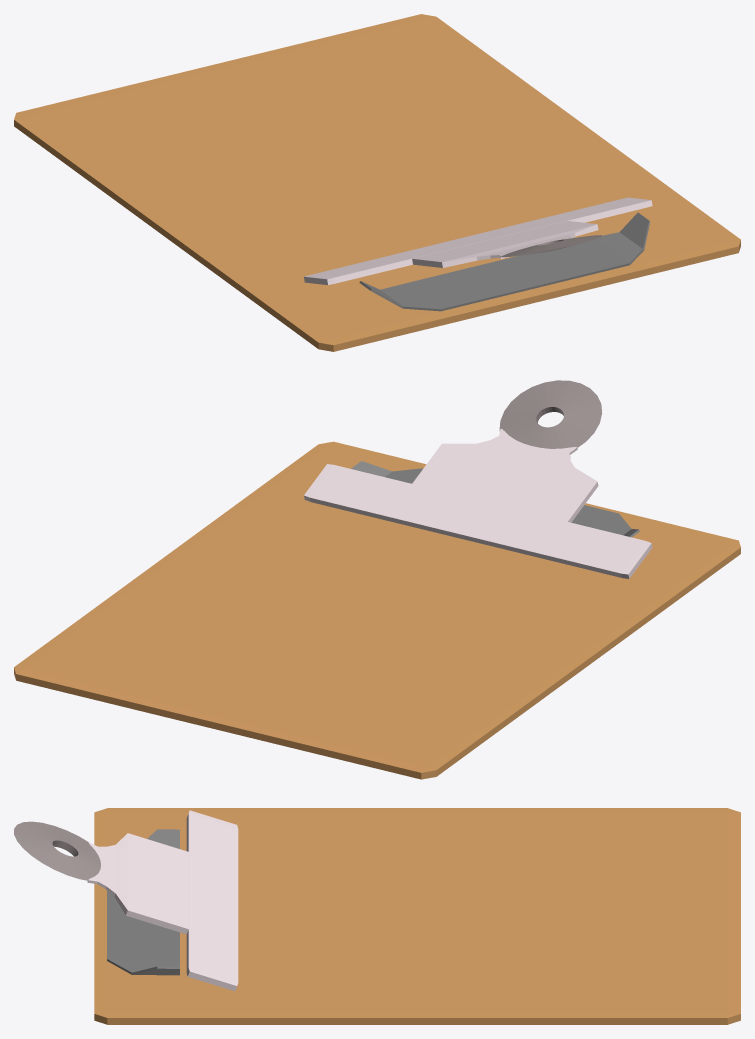
File: CLIPBOARD_fbx.fbx
3 views of the same model, one above another, from view 1: azimuth 30°, elevation 25°; view 2: azimuth 150°, elevation 25°; view 3: azimuth 270°, elevation 25° (orthographic).
Visible parts, largest first — view 1: Cube.003; view 2: Cube.003; view 3: Cube.003.
Boxes of the visible parts, x1=… form: Cube.003: x1=14, y1=14, x2=740, y2=351; Cube.003: x1=14, y1=380, x2=740, y2=779; Cube.003: x1=14, y1=808, x2=740, y2=1024.
Bounding box in the file's own units: 252 × 49.61 × 369.
